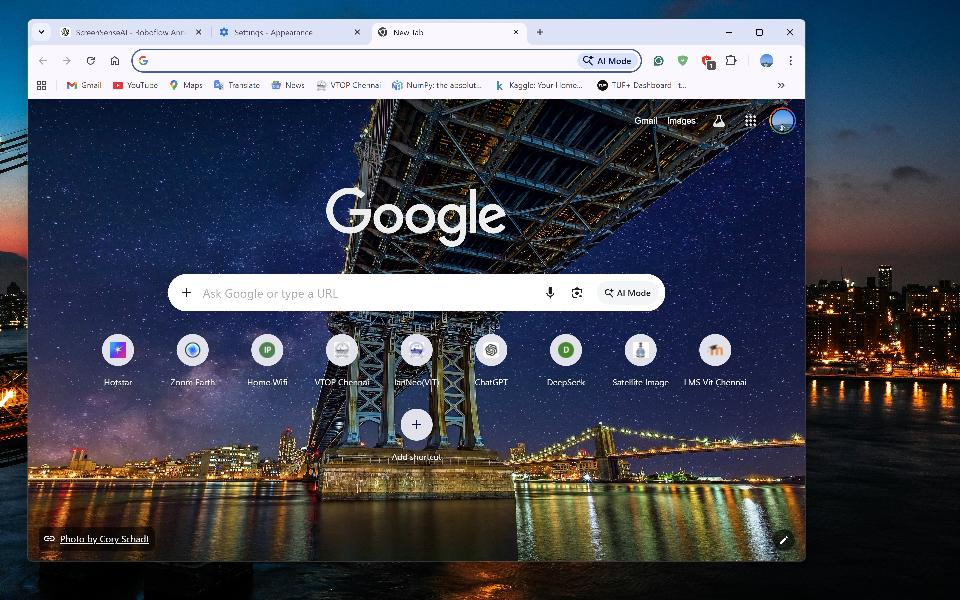close_button: (779, 23, 800, 42)
maximize_button: (748, 22, 772, 42)
minimize_button: (718, 21, 740, 45)
